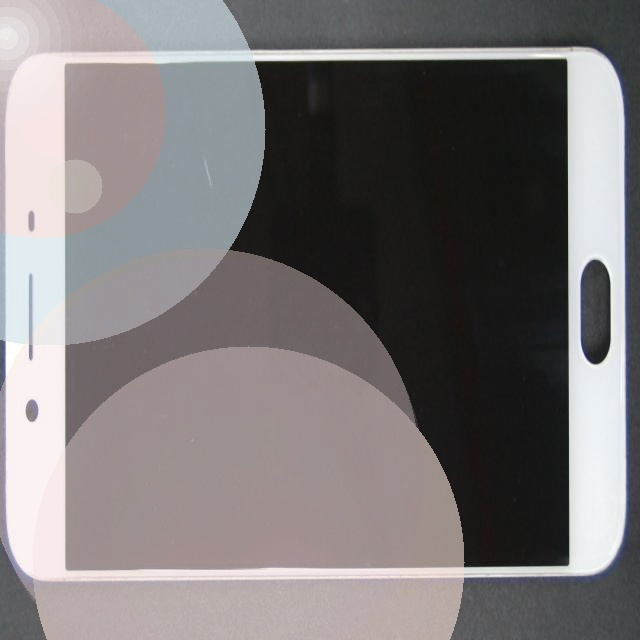scratch: (82, 83, 293, 290)
